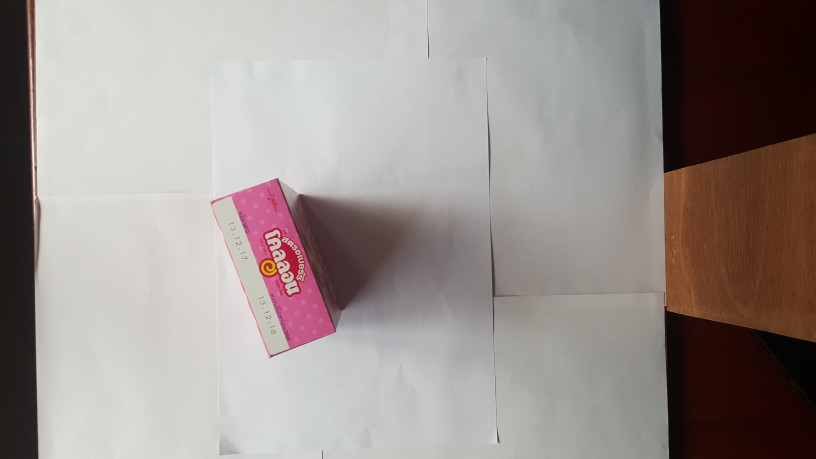collon-strawberry: (207, 178, 341, 360)
